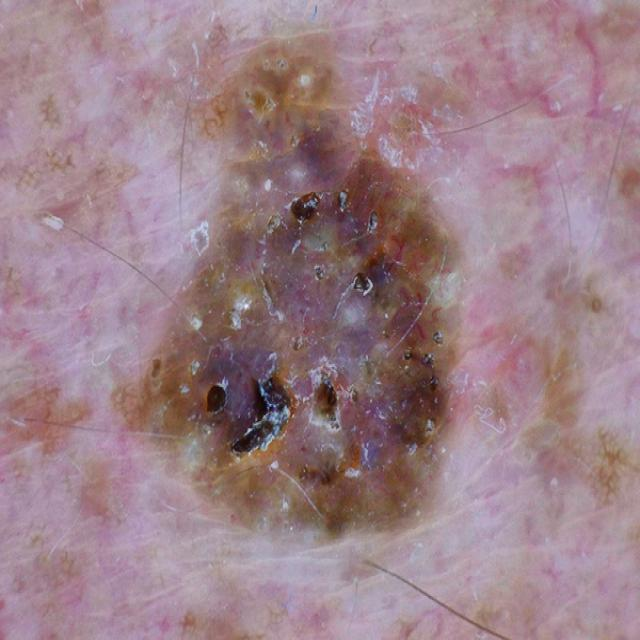Benign-Keratosis-like-Lesions-BKL-: (96, 50, 505, 564)
